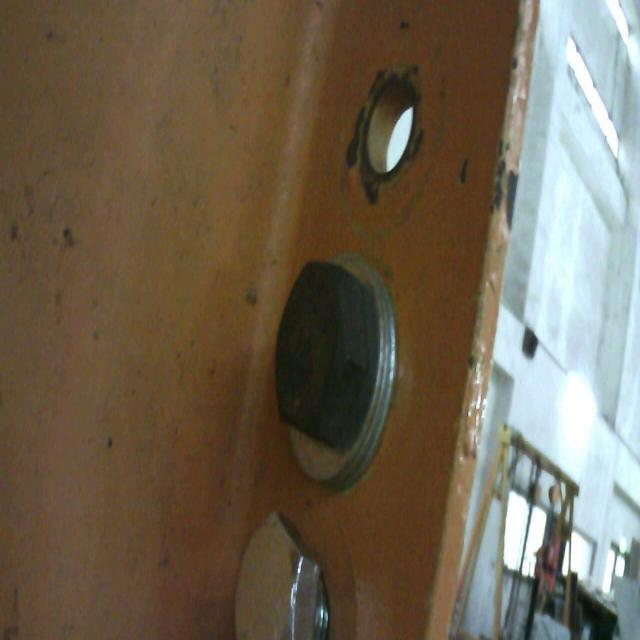Loose bolt: (223, 497, 345, 640)
Missing bolt: (361, 76, 418, 178)
Regular bolt: (239, 511, 342, 640)
Rusty bolt: (275, 257, 398, 485)
